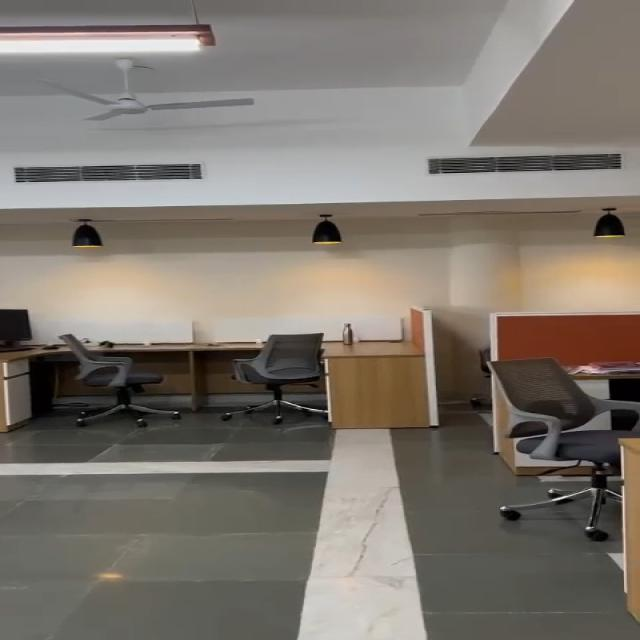floor: (0, 439, 492, 640)
furniture: (475, 350, 640, 550), (43, 319, 151, 433), (227, 331, 332, 437)
wall: (0, 132, 640, 303)
